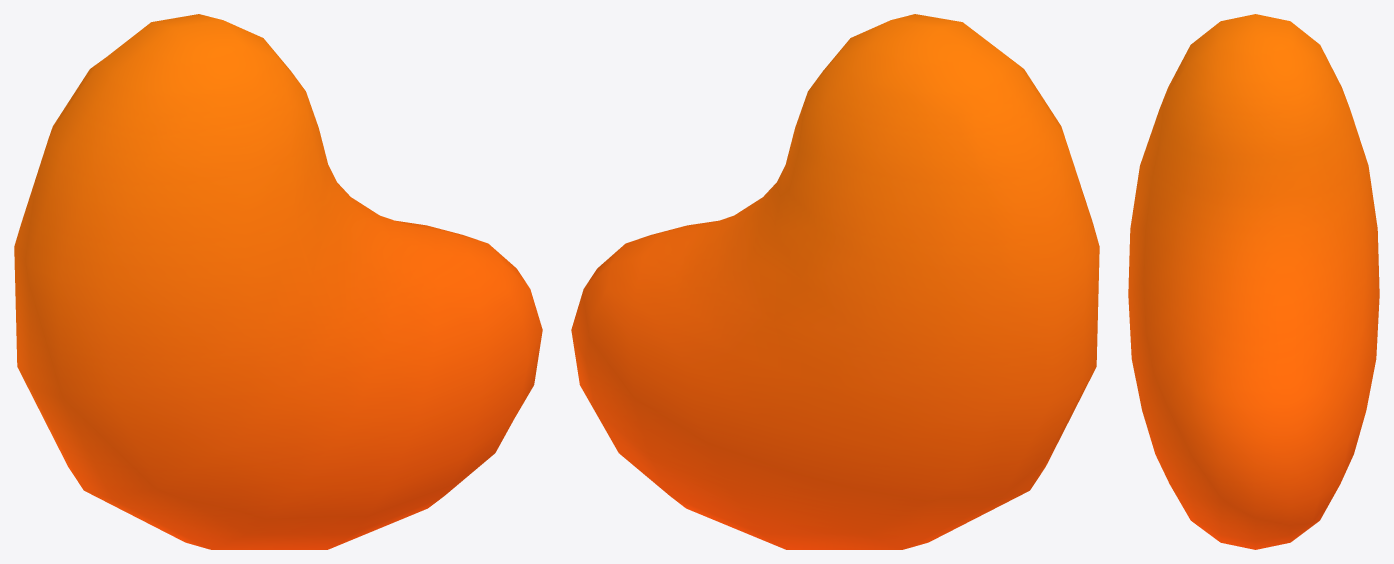
File: Gem_06.glb
The picture shows the model from 3 angles, left to right: view 1: azimuth 30°, elevation 25°; view 2: azimuth 150°, elevation 25°; view 3: azimuth 270°, elevation 25°; orthographic projection. The views are drawn at different scales.
Visible parts, largest first — view 1: Gem_06; view 2: Gem_06; view 3: Gem_06.
Part boxes in pixels (x1,y1,x2,y2): Gem_06: [14, 14, 542, 549]; Gem_06: [571, 14, 1099, 549]; Gem_06: [1128, 14, 1379, 549].
Bounding box in the file's own units: 1.02 × 1.06 × 0.5335.
Materials: 1 (1 with a texture image).
